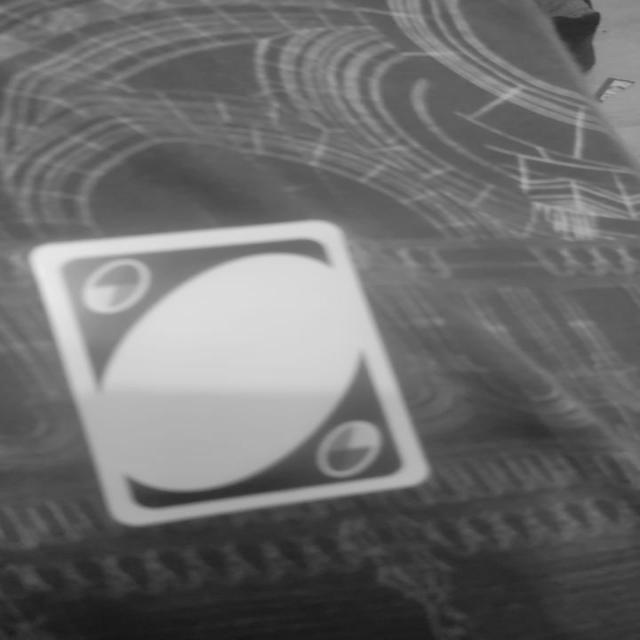wild_card: (35, 218, 441, 527)
